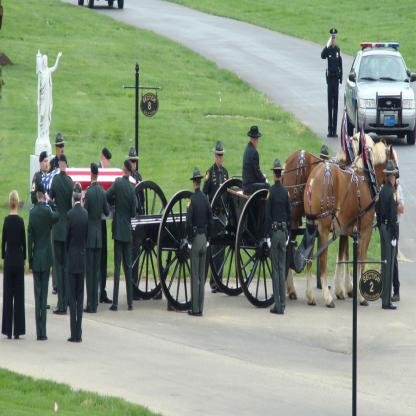Car: (344, 26, 415, 145), (77, 0, 125, 10)
